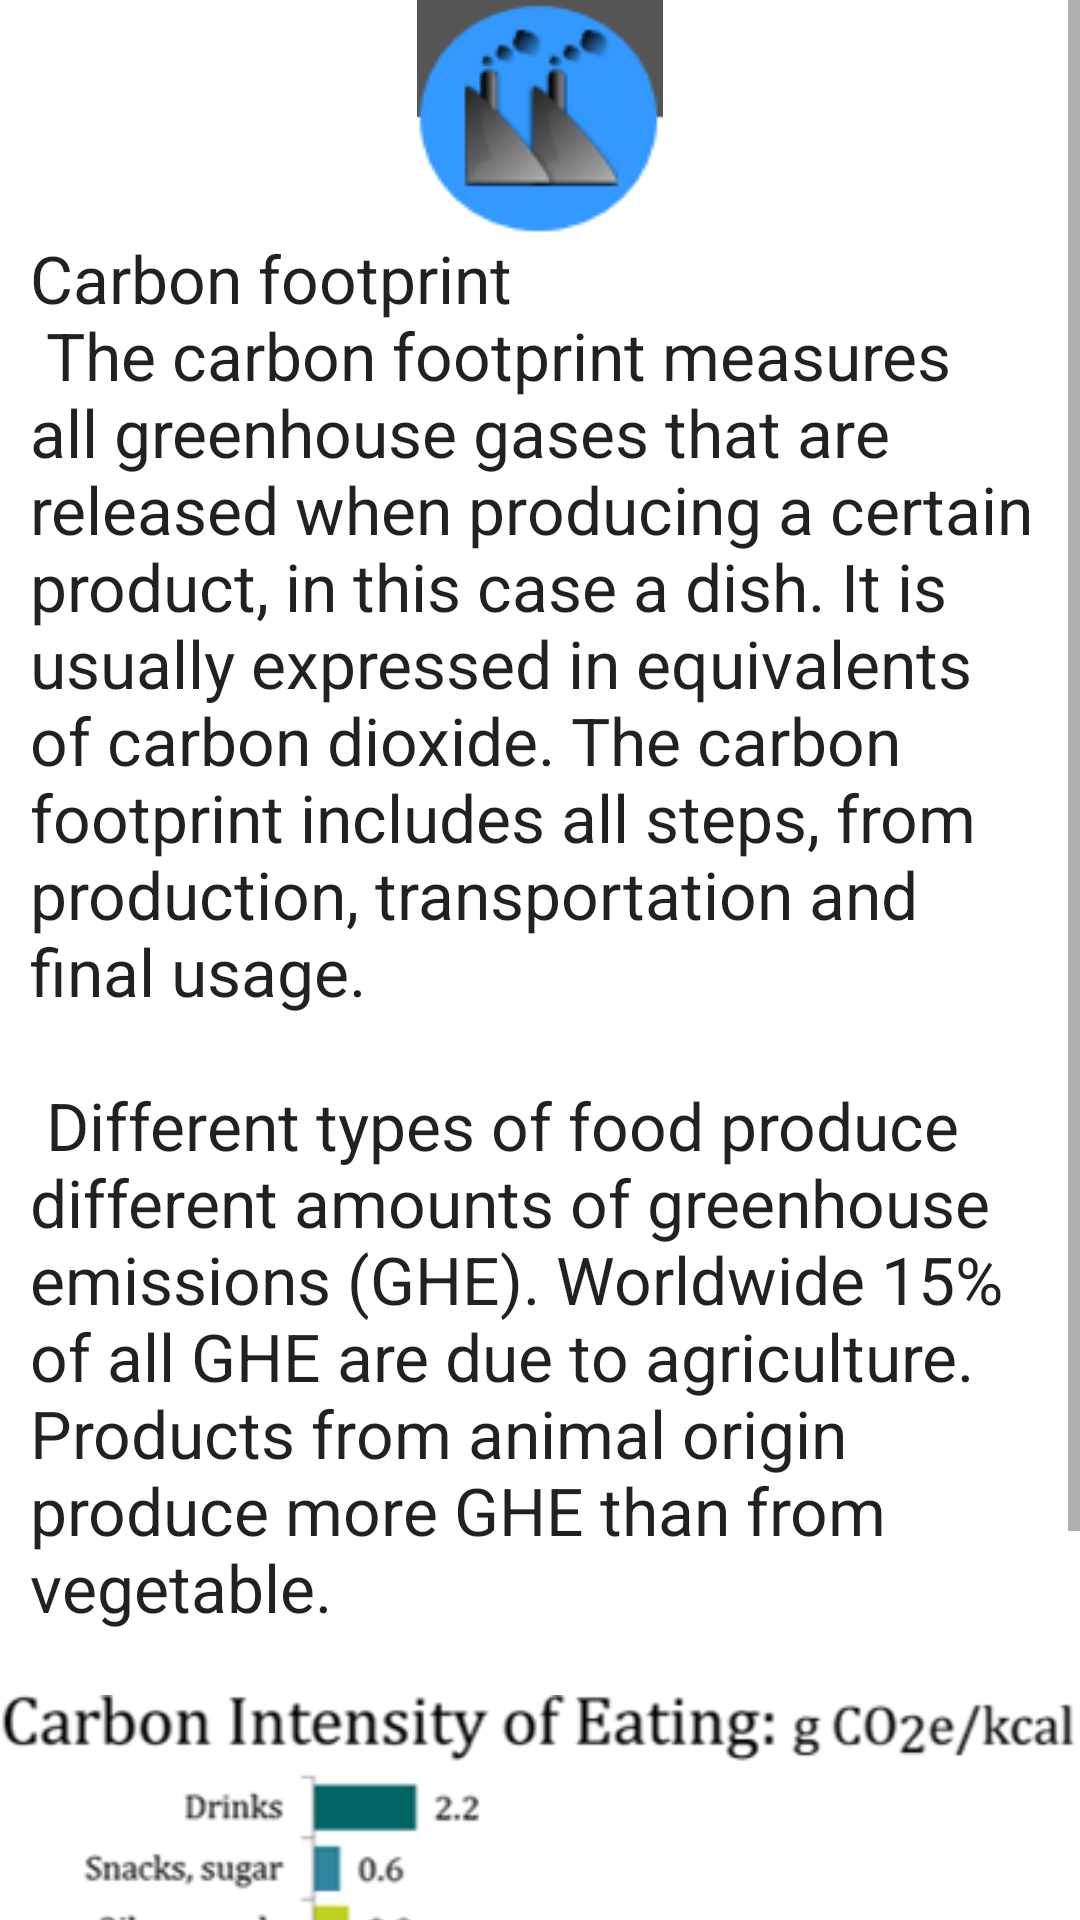

Where icons sit on this 1080 x 1920 app screen, as {"left": x1, "top": y1, "right": x2, "bottom": y2}:
factory: {"left": 417, "top": 0, "right": 663, "bottom": 232}
